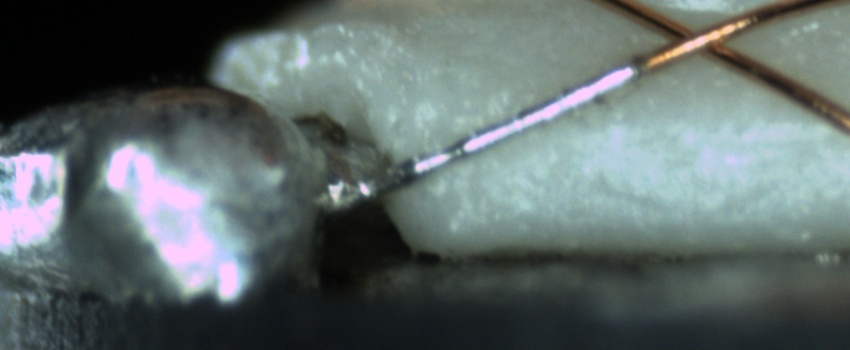CL: (647, 10, 746, 66)
DL: (614, 115, 850, 173)
TS: (327, 62, 636, 208)
TTCW: (357, 39, 690, 195)
